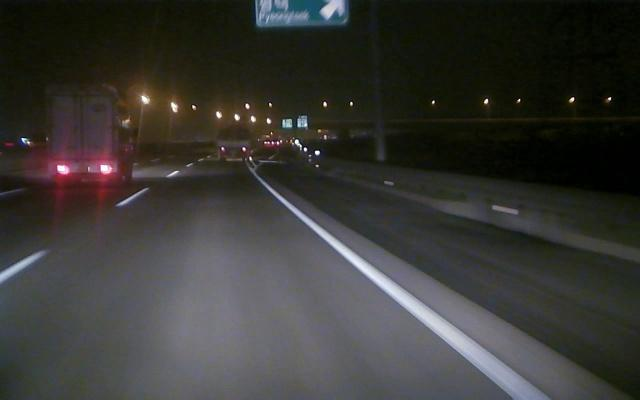lane: (261, 179, 550, 398), (1, 191, 144, 282)
